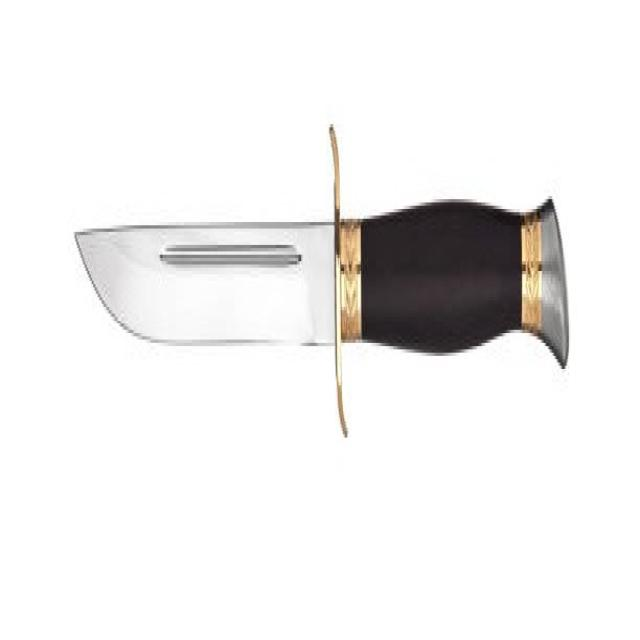knife: (65, 109, 575, 454)
